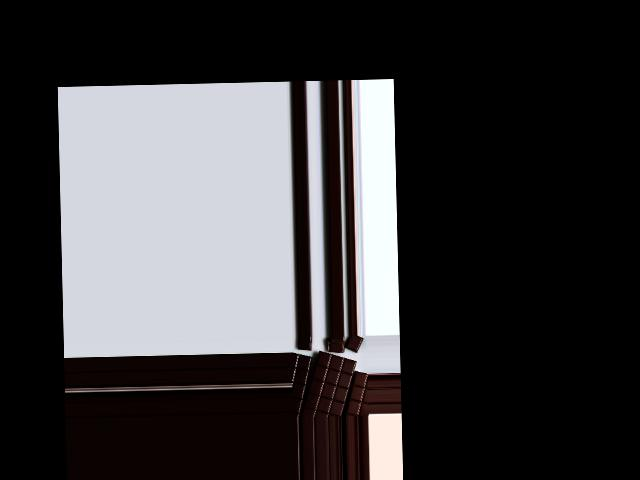chocolate: (301, 351, 359, 418)
